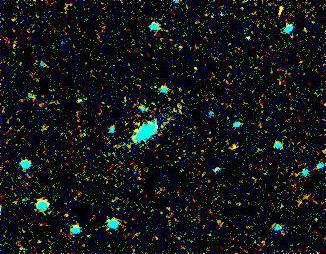star: (219, 130, 249, 160)
